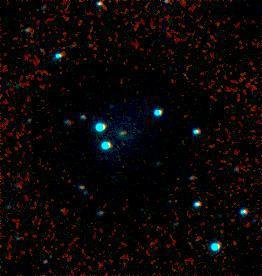star: (47, 195, 77, 225)
